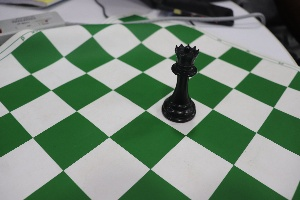black_queen: (157, 29, 199, 124)
